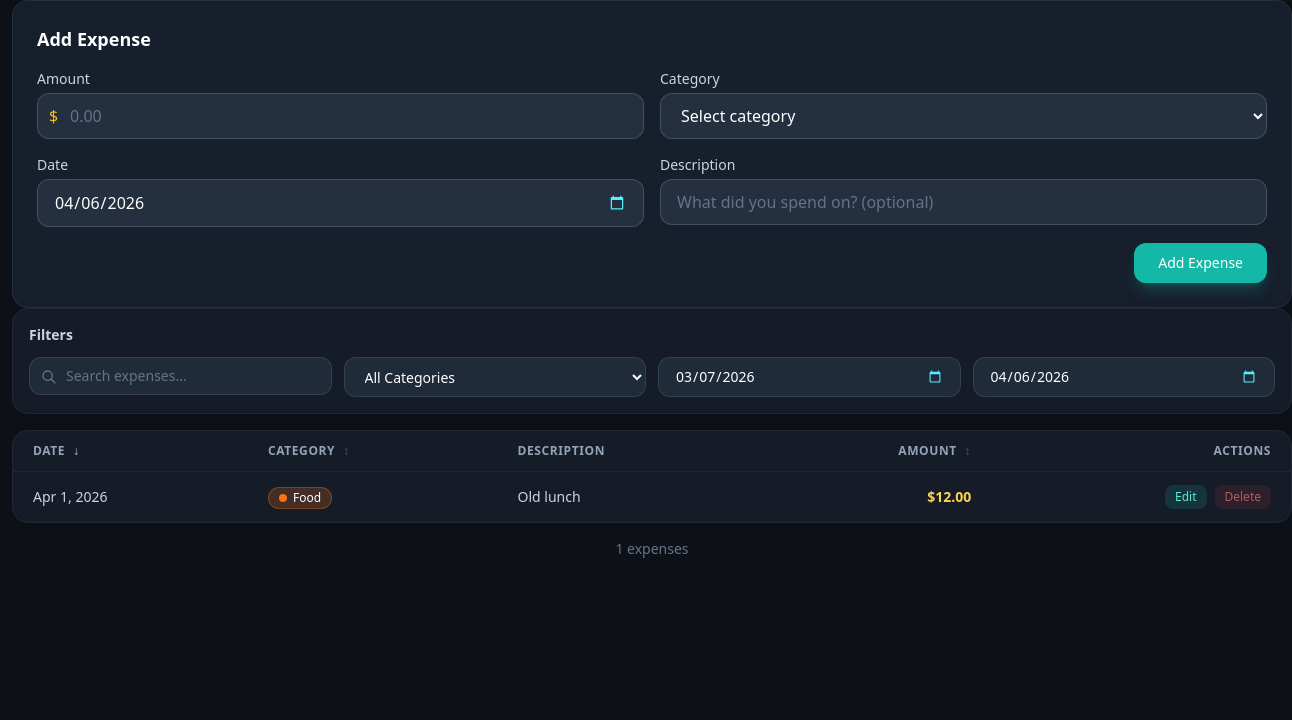
Test: Expenses view › editing expenses › populates the form when editing and updates the expense
Note: Click Edit in the desktop table
Click the button "Edit". click: (1186, 496)
box: [1165,484,1206,508]
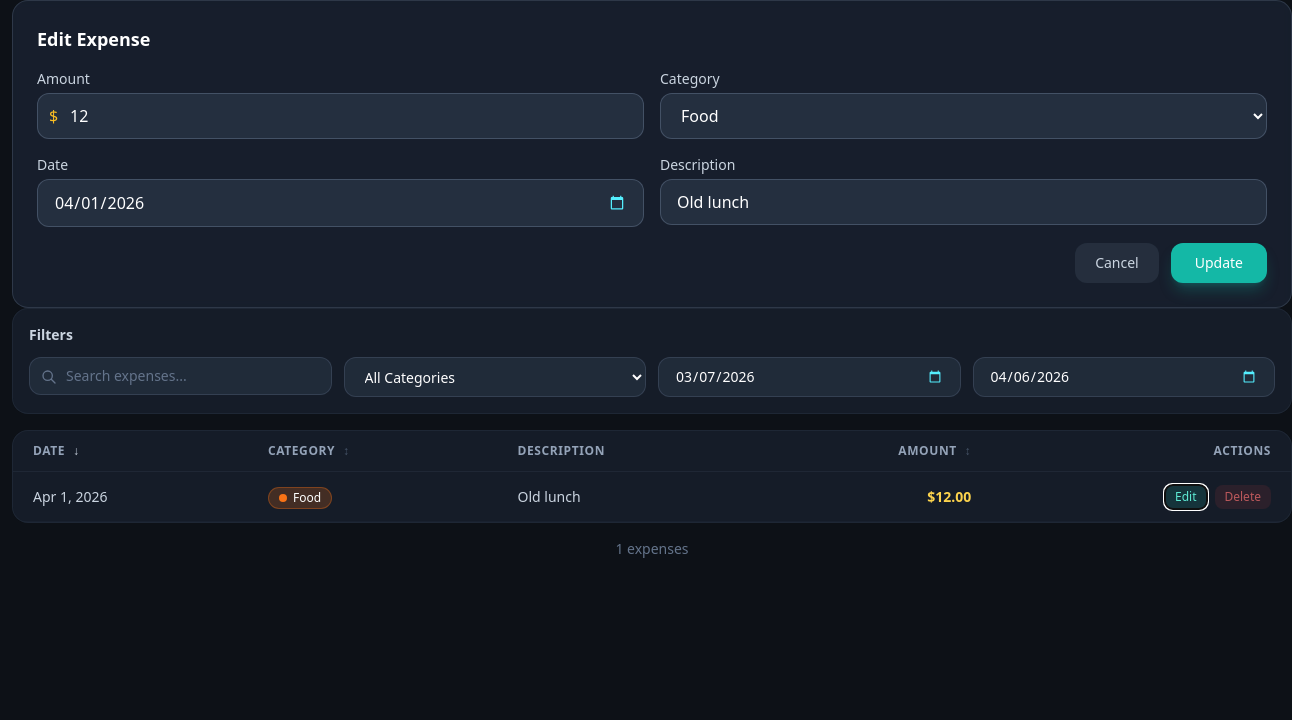
expect the heading "Edit Expense" is shown: met, box [37,27,150,51]
Note: Clear and type new description
Replace the text in the field showing "Old lunch" with "Updated lunch". click: (964, 202)
box: [660,179,1267,225]
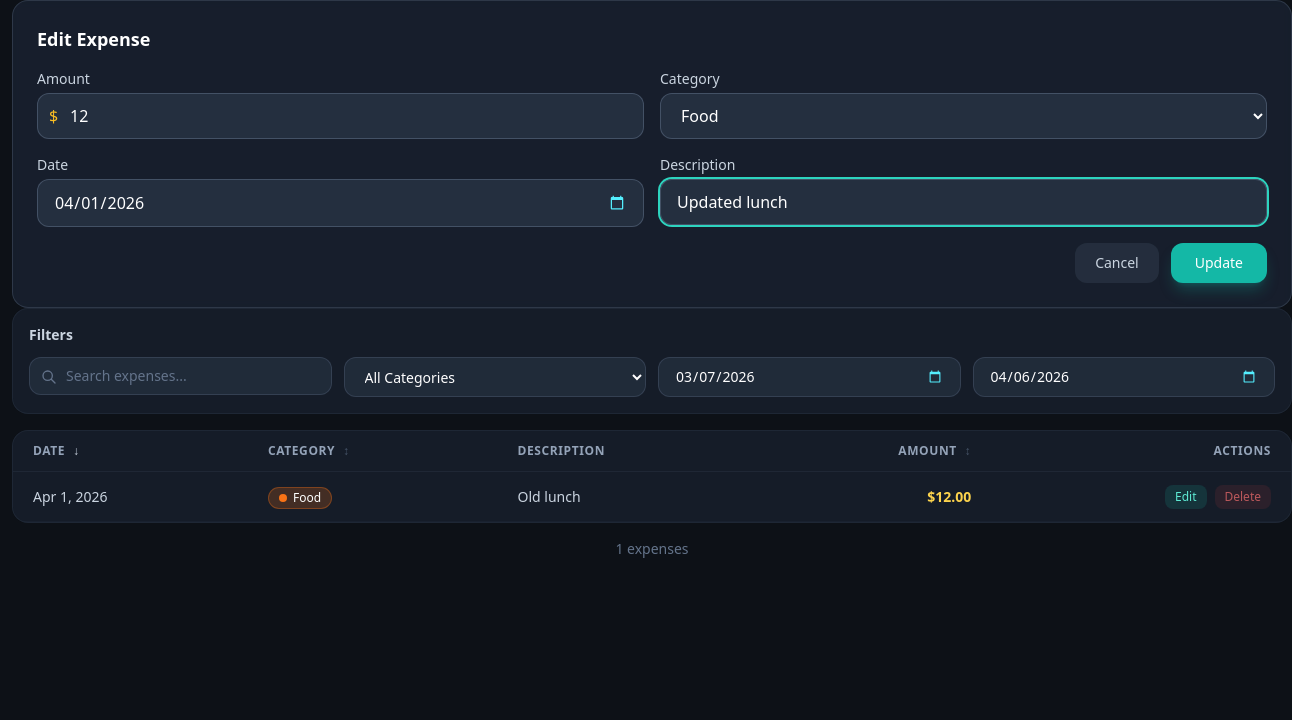
Click the button "Update". click: (1219, 263)
box: [1171,243,1267,283]
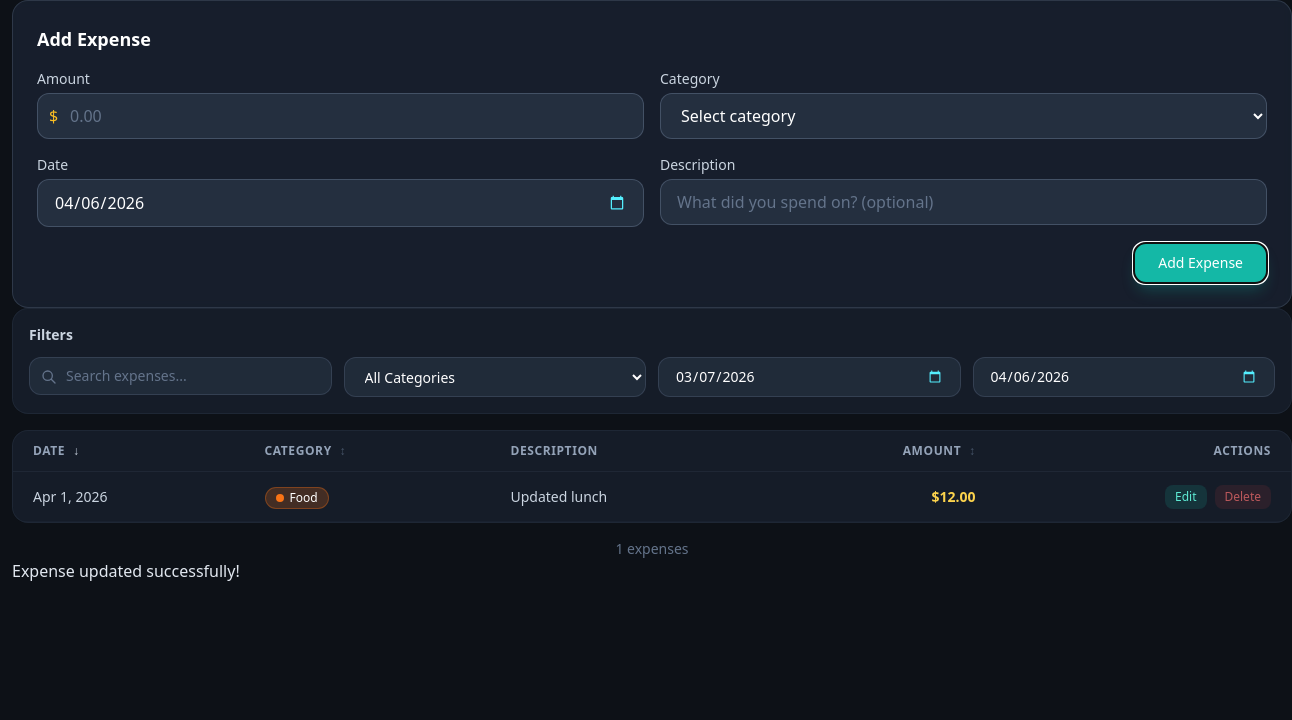
expect the text "Updated lunch" is shown: met, box [510,486,607,506]
expect the text "Old lunch" is gone: met
